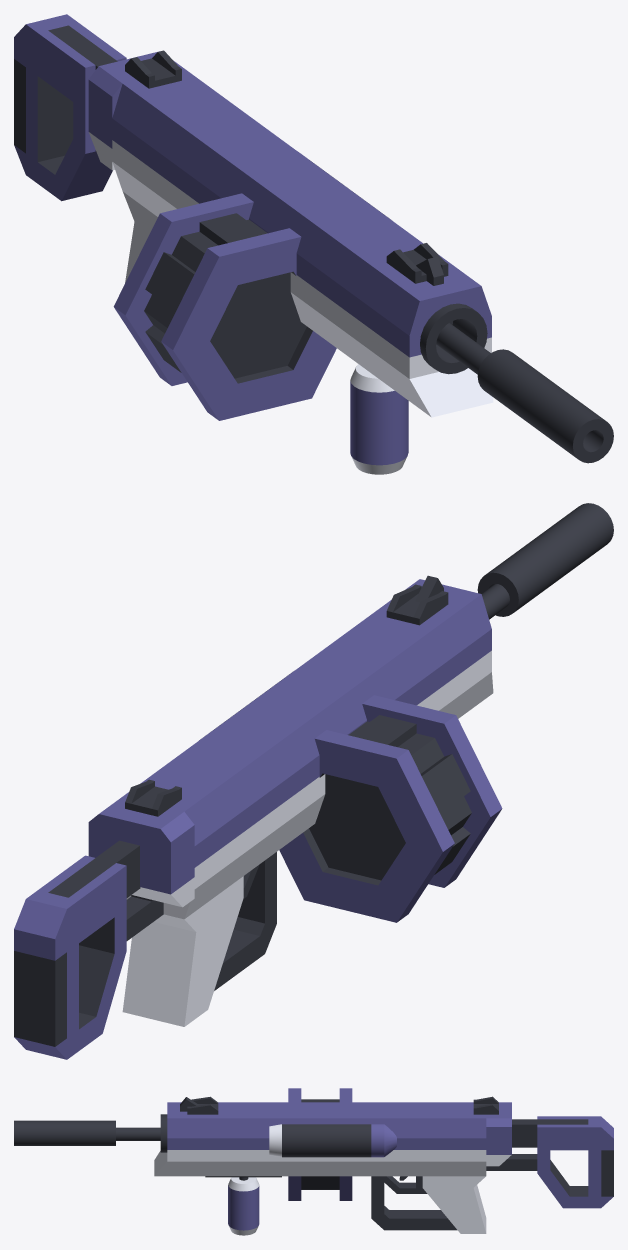
The picture shows the model from 3 angles, top to bottom: view 1: azimuth 30°, elevation 25°; view 2: azimuth 150°, elevation 25°; view 3: azimuth 270°, elevation 25°; orthographic projection. The views are drawn at different scales.
Visible parts, largest first — view 1: mergedBlocks; view 2: mergedBlocks; view 3: mergedBlocks.
Boxes of the visible parts, box(x1,y1,x2,y2) form: mergedBlocks: box(14, 14, 613, 474); mergedBlocks: box(14, 503, 613, 1059); mergedBlocks: box(14, 1088, 613, 1235).
Bounding box in the file's own units: 1.08 × 1.14 × 4.7.
